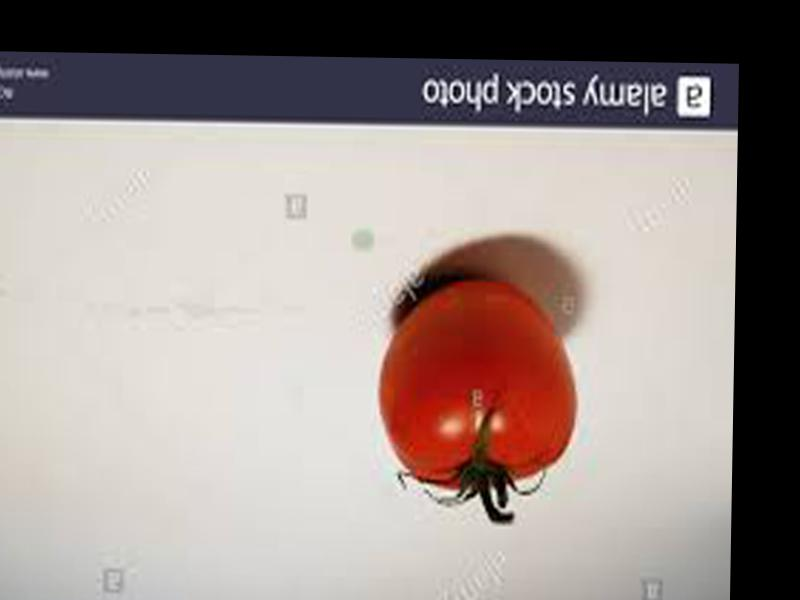Tomato: (377, 276, 576, 488)
